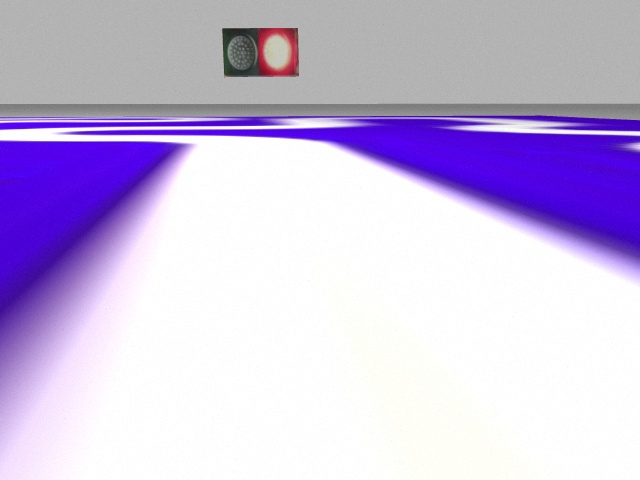red: (256, 28, 298, 75)
